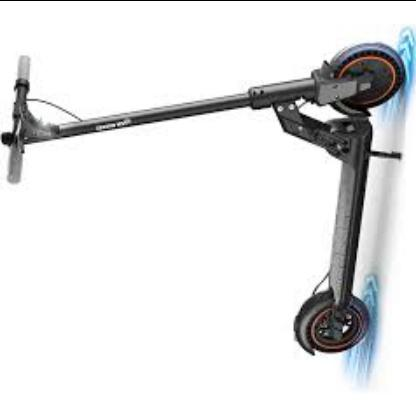bike: (2, 36, 410, 369)
